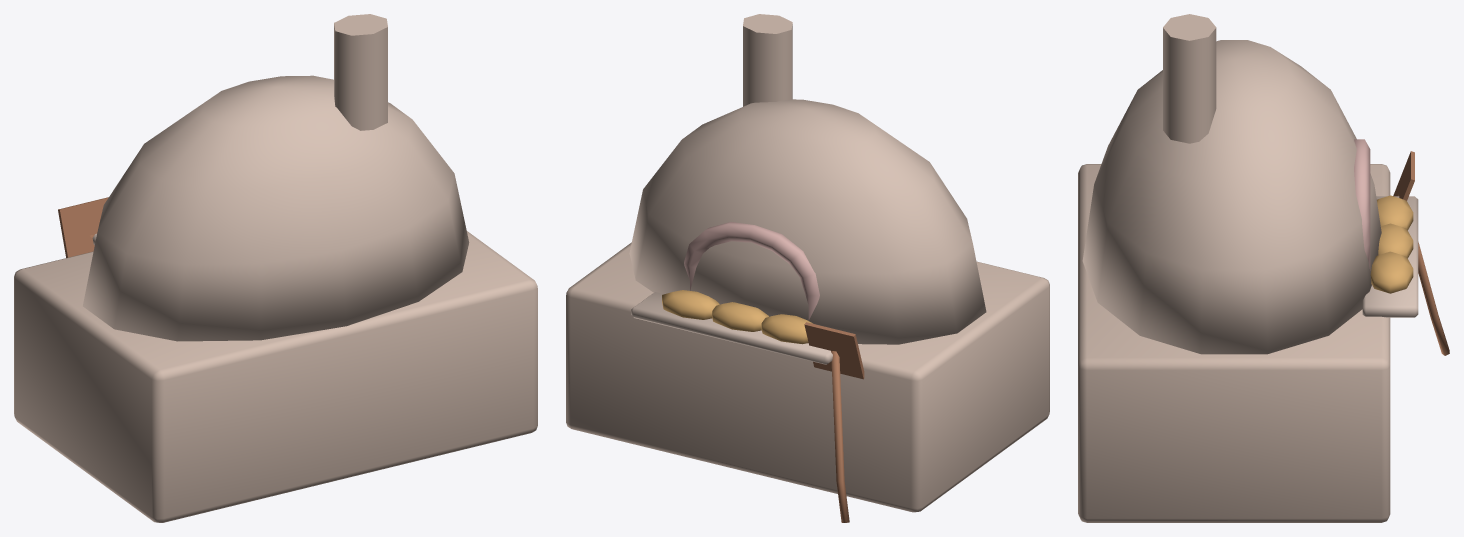
The model's file is bread_oven.glb.
The picture shows the model from 3 angles, left to right: view 1: azimuth 30°, elevation 25°; view 2: azimuth 150°, elevation 25°; view 3: azimuth 270°, elevation 25°; orthographic projection. The views are drawn at different scales.
Visible parts, largest first — view 1: bread_oven; view 2: bread_oven; view 3: bread_oven.
Boxes of the visible parts, x1=… form: bread_oven: x1=14, y1=14, x2=537, y2=522; bread_oven: x1=566, y1=14, x2=1049, y2=522; bread_oven: x1=1078, y1=14, x2=1449, y2=522.
Size of what is drawn, in the model's own units: 1.8 by 1.8 by 1.4.
